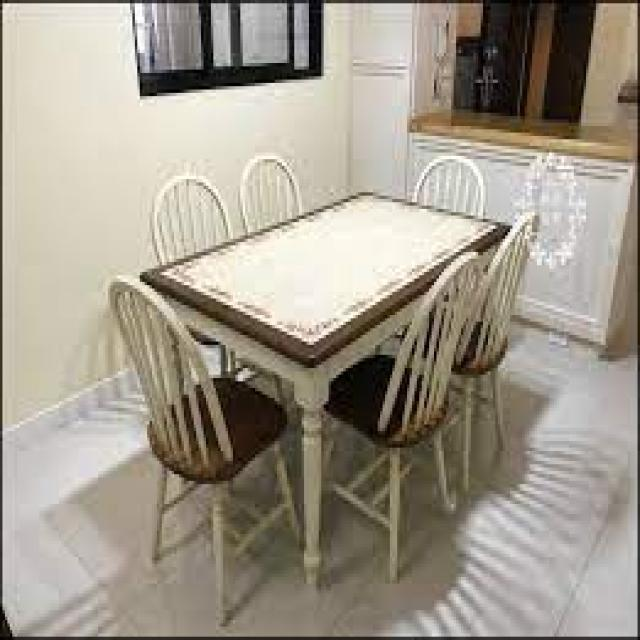table: (113, 128, 540, 612)
